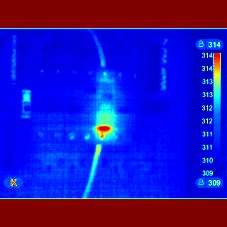Critical: (88, 106, 124, 141)
